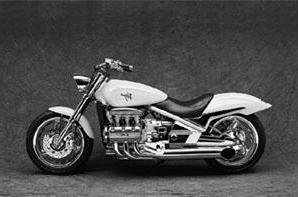motorcycle: (18, 53, 276, 183)
